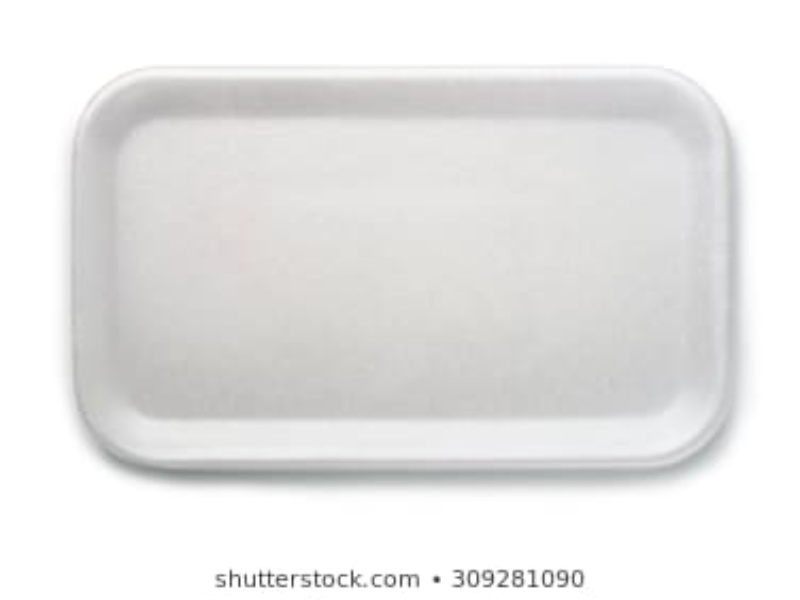plastic-tray: (59, 62, 739, 480)
